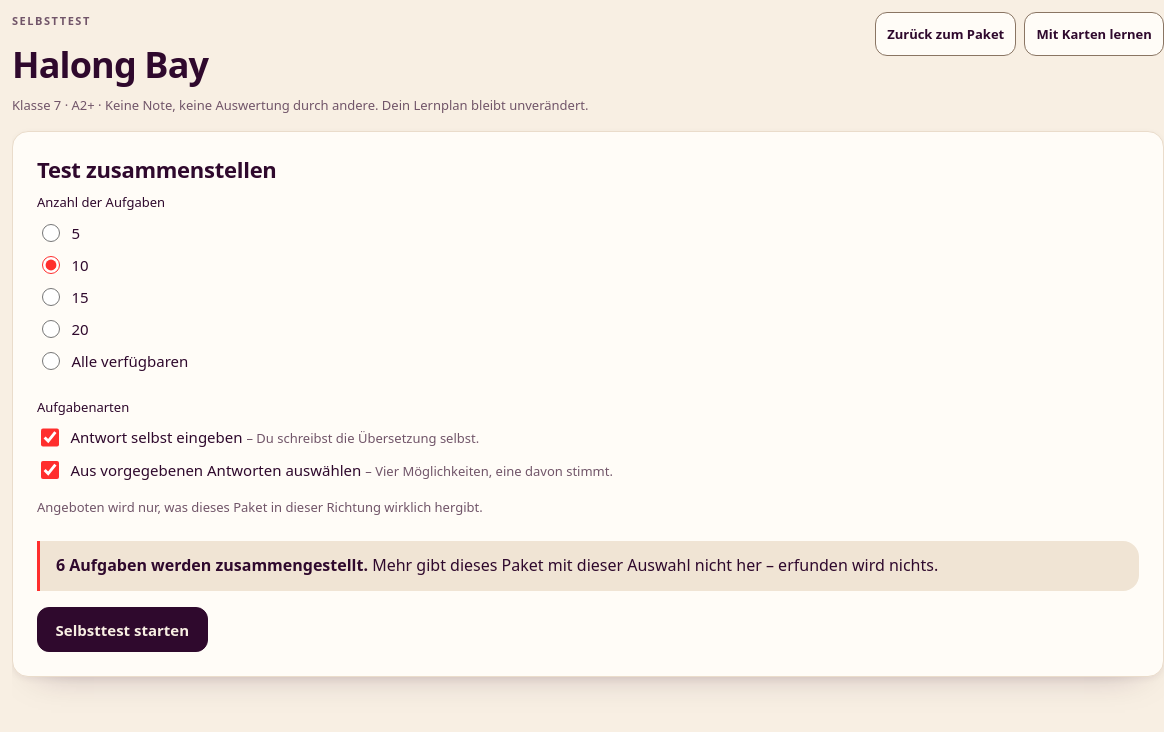
Test: Selbsttest – Einrichten › richtet sich nach der gewählten Anzahl
Click the radio button labelled "5".
click(51, 233)  # box [42,224,60,242]
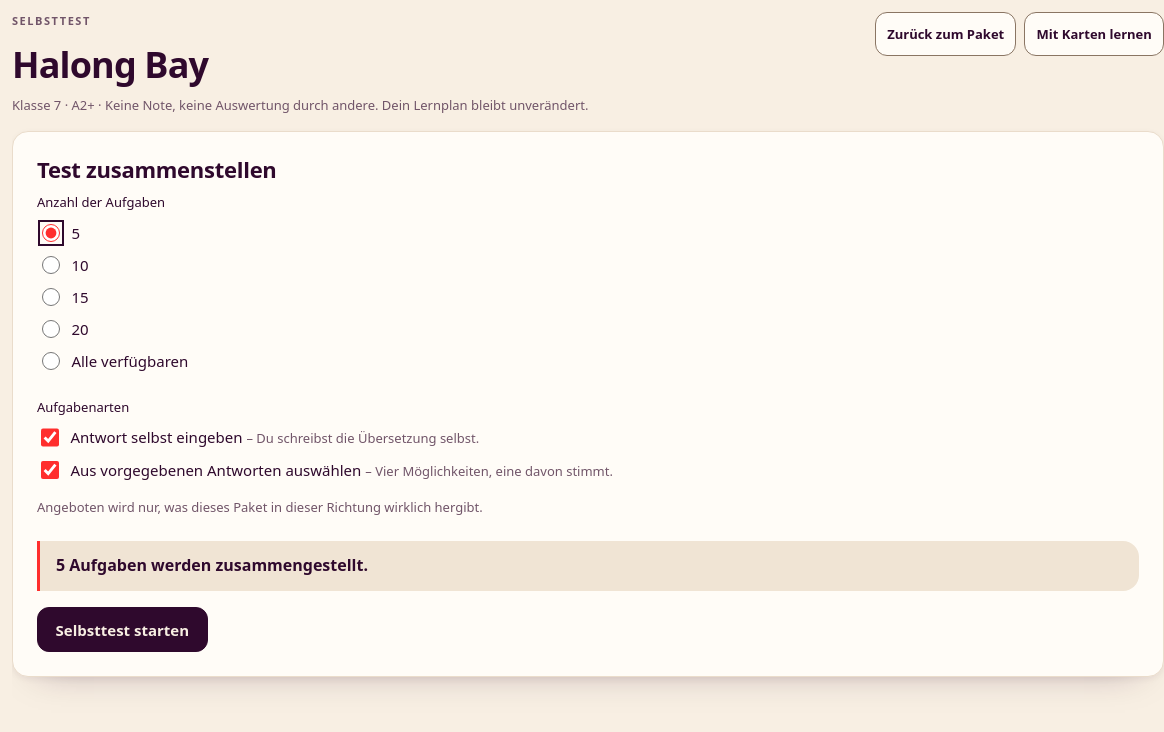
Check: the text "5 Aufgaben werden zusammengestellt." is shown, box [56,554,368,576]
Check: the text "Mehr gibt dieses Paket mit dieser Auswahl nicht her" is gone
